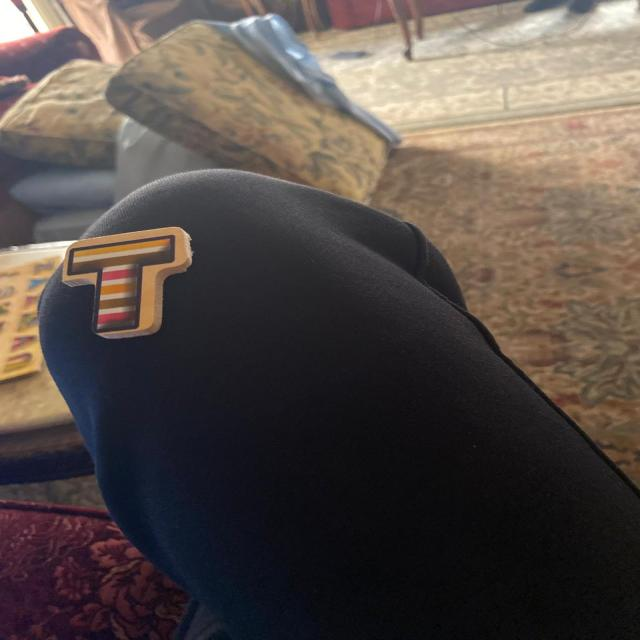T: (61, 226, 191, 338)
